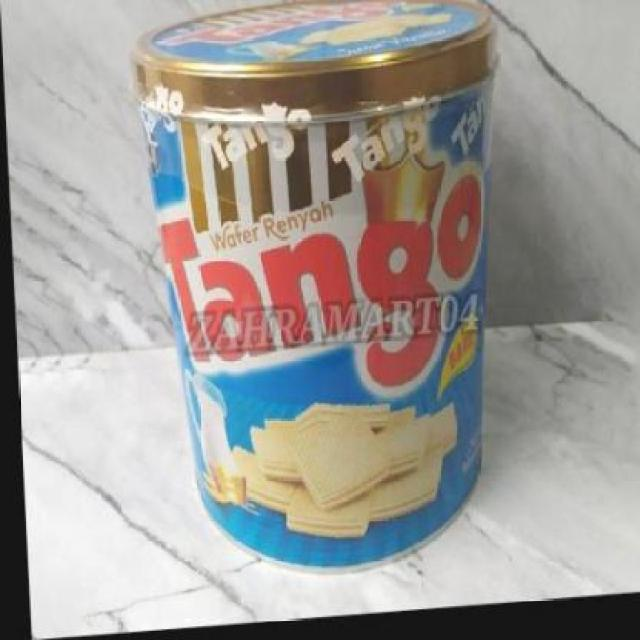Metal: (142, 9, 510, 560)
